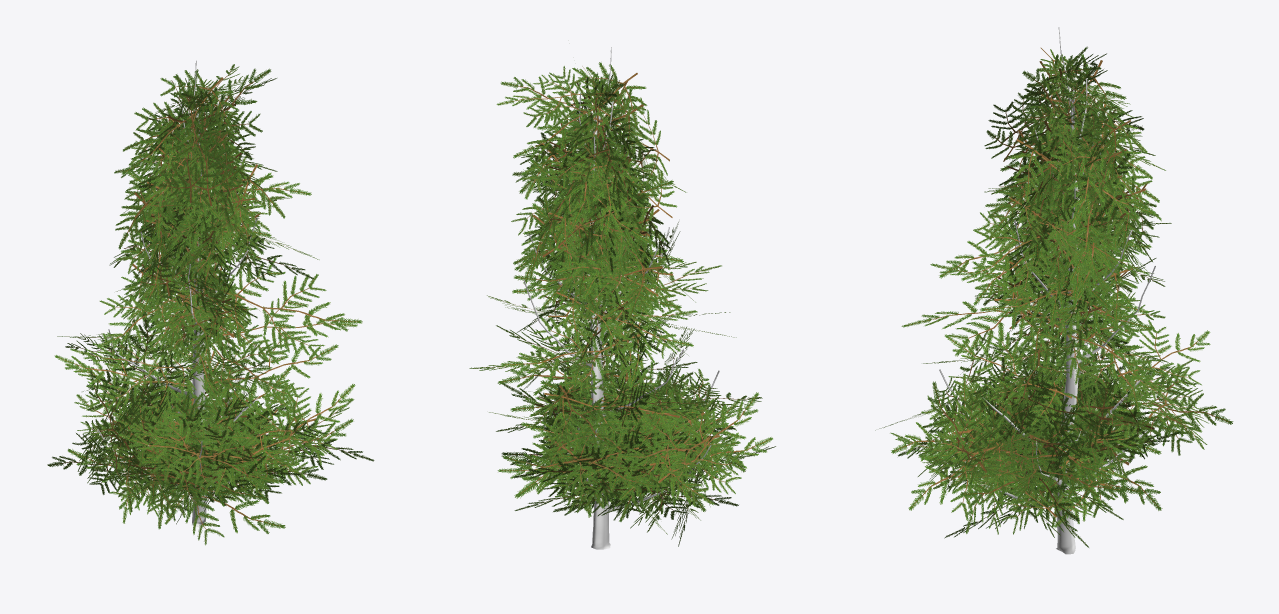
The model's file is SpruceReduced.fbx.
3 renders of one model, left to right at view 1: azimuth 30°, elevation 25°; view 2: azimuth 150°, elevation 25°; view 3: azimuth 270°, elevation 25°, orthographic. The views are drawn at different scales.
Visible parts, largest first — view 1: Spruce_LOD0; view 2: Spruce_LOD0; view 3: Spruce_LOD0.
Part boxes in pixels (box(x1,y1,x2,y2)): Spruce_LOD0: box(47, 60, 374, 545); Spruce_LOD0: box(469, 47, 775, 549); Spruce_LOD0: box(875, 27, 1233, 554).
Size of what is drawn, in the model's own units: 923 by 1509 by 981.
